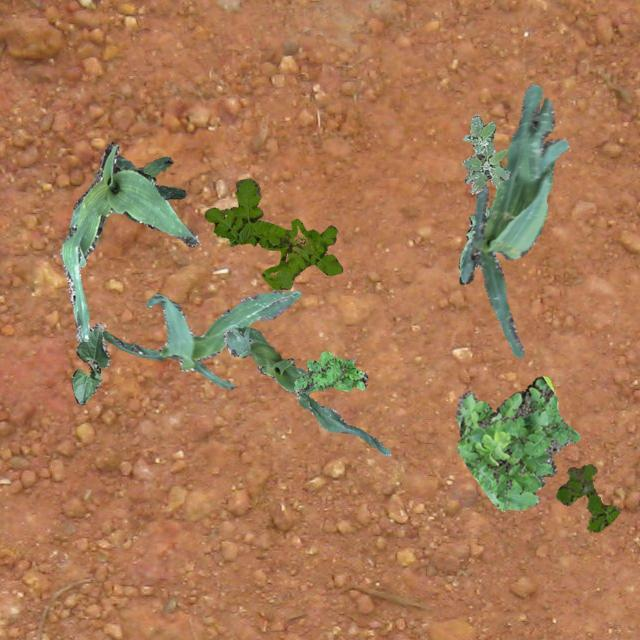crop: (460, 82, 568, 356), (59, 140, 198, 340), (222, 326, 390, 454), (102, 288, 300, 388), (70, 322, 108, 404), (458, 206, 490, 284)
weed: (454, 376, 578, 508), (204, 178, 342, 288), (554, 464, 618, 530), (460, 114, 510, 192), (293, 349, 367, 394), (114, 155, 184, 199)
